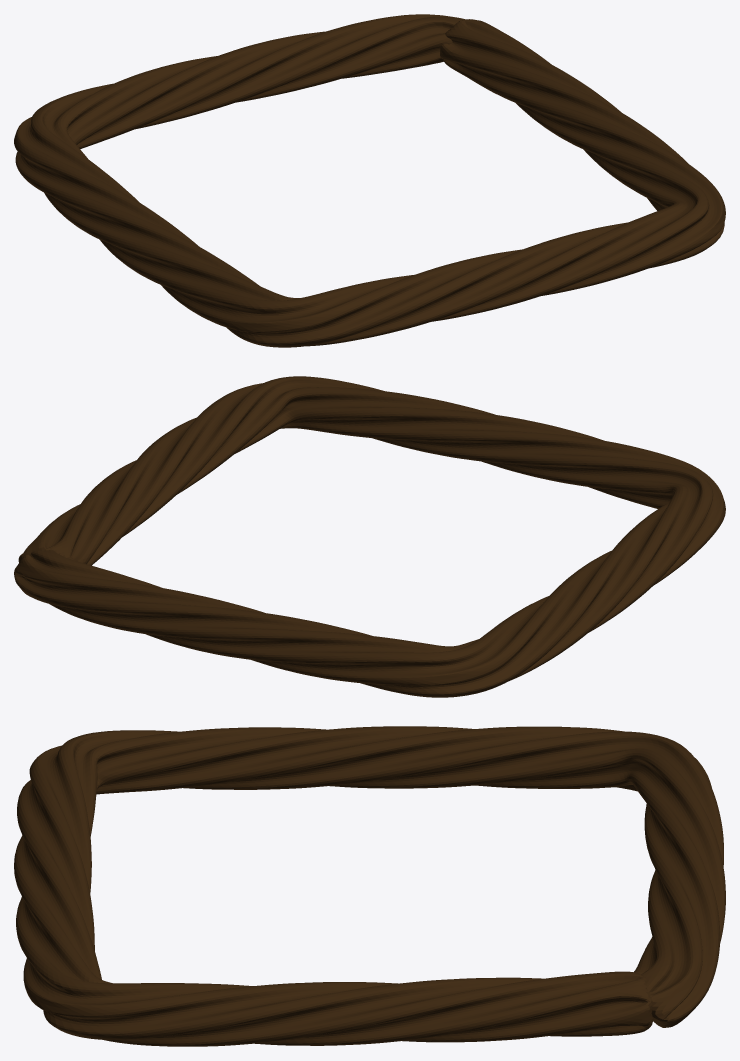
Rendered from CakeFillGlazeChoco.glb.
3 renders of one model, top to bottom at view 1: azimuth 30°, elevation 25°; view 2: azimuth 150°, elevation 25°; view 3: azimuth 270°, elevation 25°, orthographic. The views are drawn at different scales.
Visible parts, largest first — view 1: Cylinder.011; view 2: Cylinder.011; view 3: Cylinder.011.
Boxes of the visible parts, bbox=[...] form: Cylinder.011: bbox=[14, 14, 725, 347]; Cylinder.011: bbox=[14, 376, 725, 697]; Cylinder.011: bbox=[14, 726, 725, 1046].
Size of the model in its own units: 1.96 by 0.1996 by 2.02.
